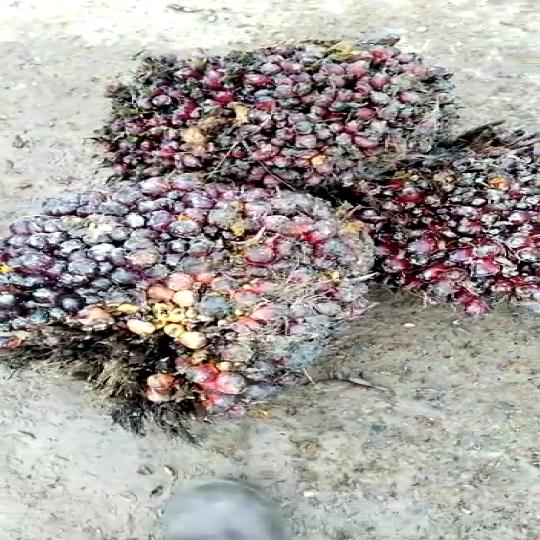kurang masak: (0, 164, 387, 433), (99, 29, 457, 221), (360, 123, 540, 318)
